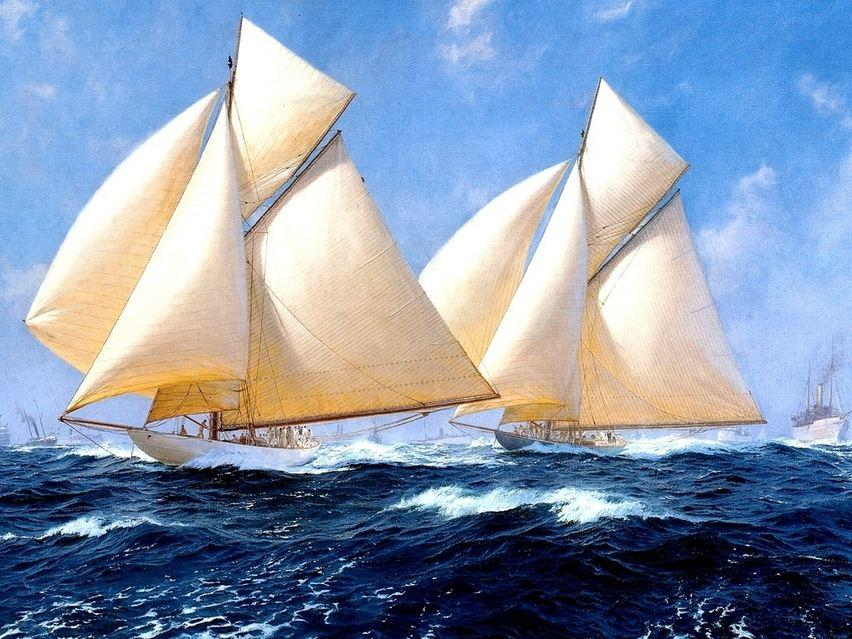fanchuan: (21, 10, 499, 466), (410, 76, 776, 463)
